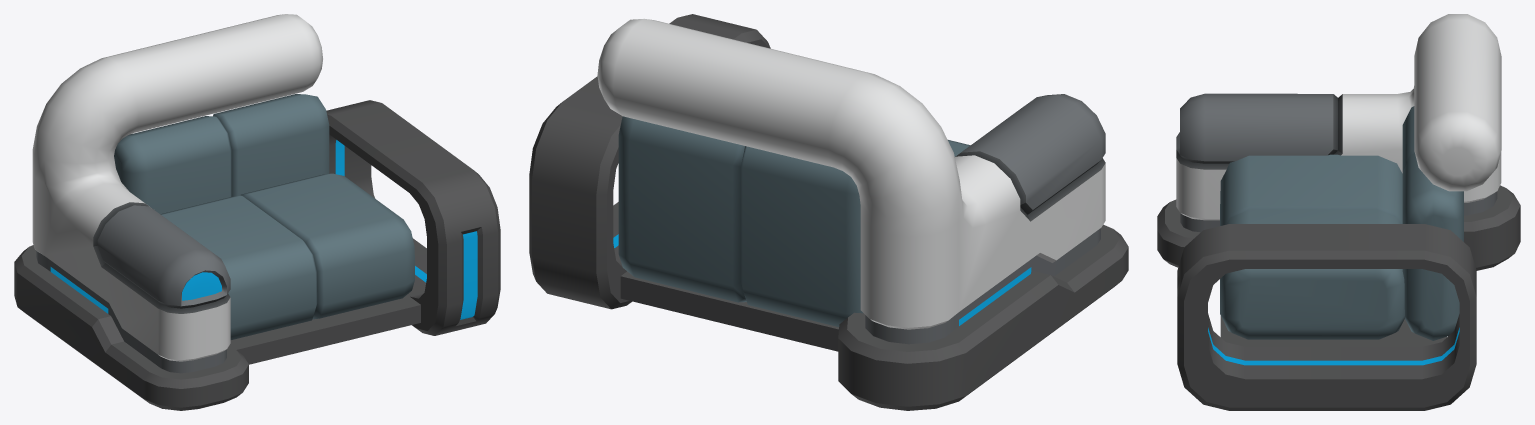
Rendered from Mini_sofa_004.glb.
The picture shows the model from 3 angles, left to right: view 1: azimuth 30°, elevation 25°; view 2: azimuth 150°, elevation 25°; view 3: azimuth 270°, elevation 25°; orthographic projection. The views are drawn at different scales.
Parts seen in each view (by area): view 1: Mini_sofa_004; view 2: Mini_sofa_004; view 3: Mini_sofa_004.
Boxes of the visible parts, <box> form: Mini_sofa_004: <box>14,14,500,410</box>; Mini_sofa_004: <box>529,14,1128,410</box>; Mini_sofa_004: <box>1157,14,1520,410</box>.
Size of the model in its own units: 1.32 by 0.8815 by 1.12.
2 materials, 2 textured.
